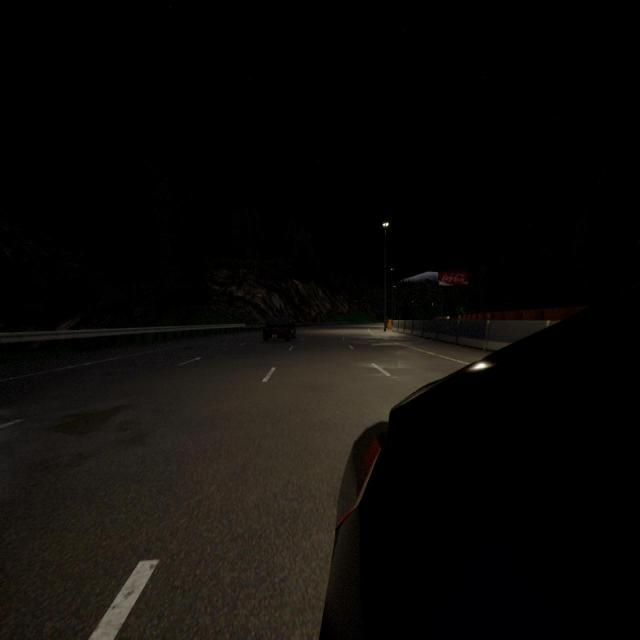Vehicle: (320, 286, 640, 638), (262, 314, 296, 341)
